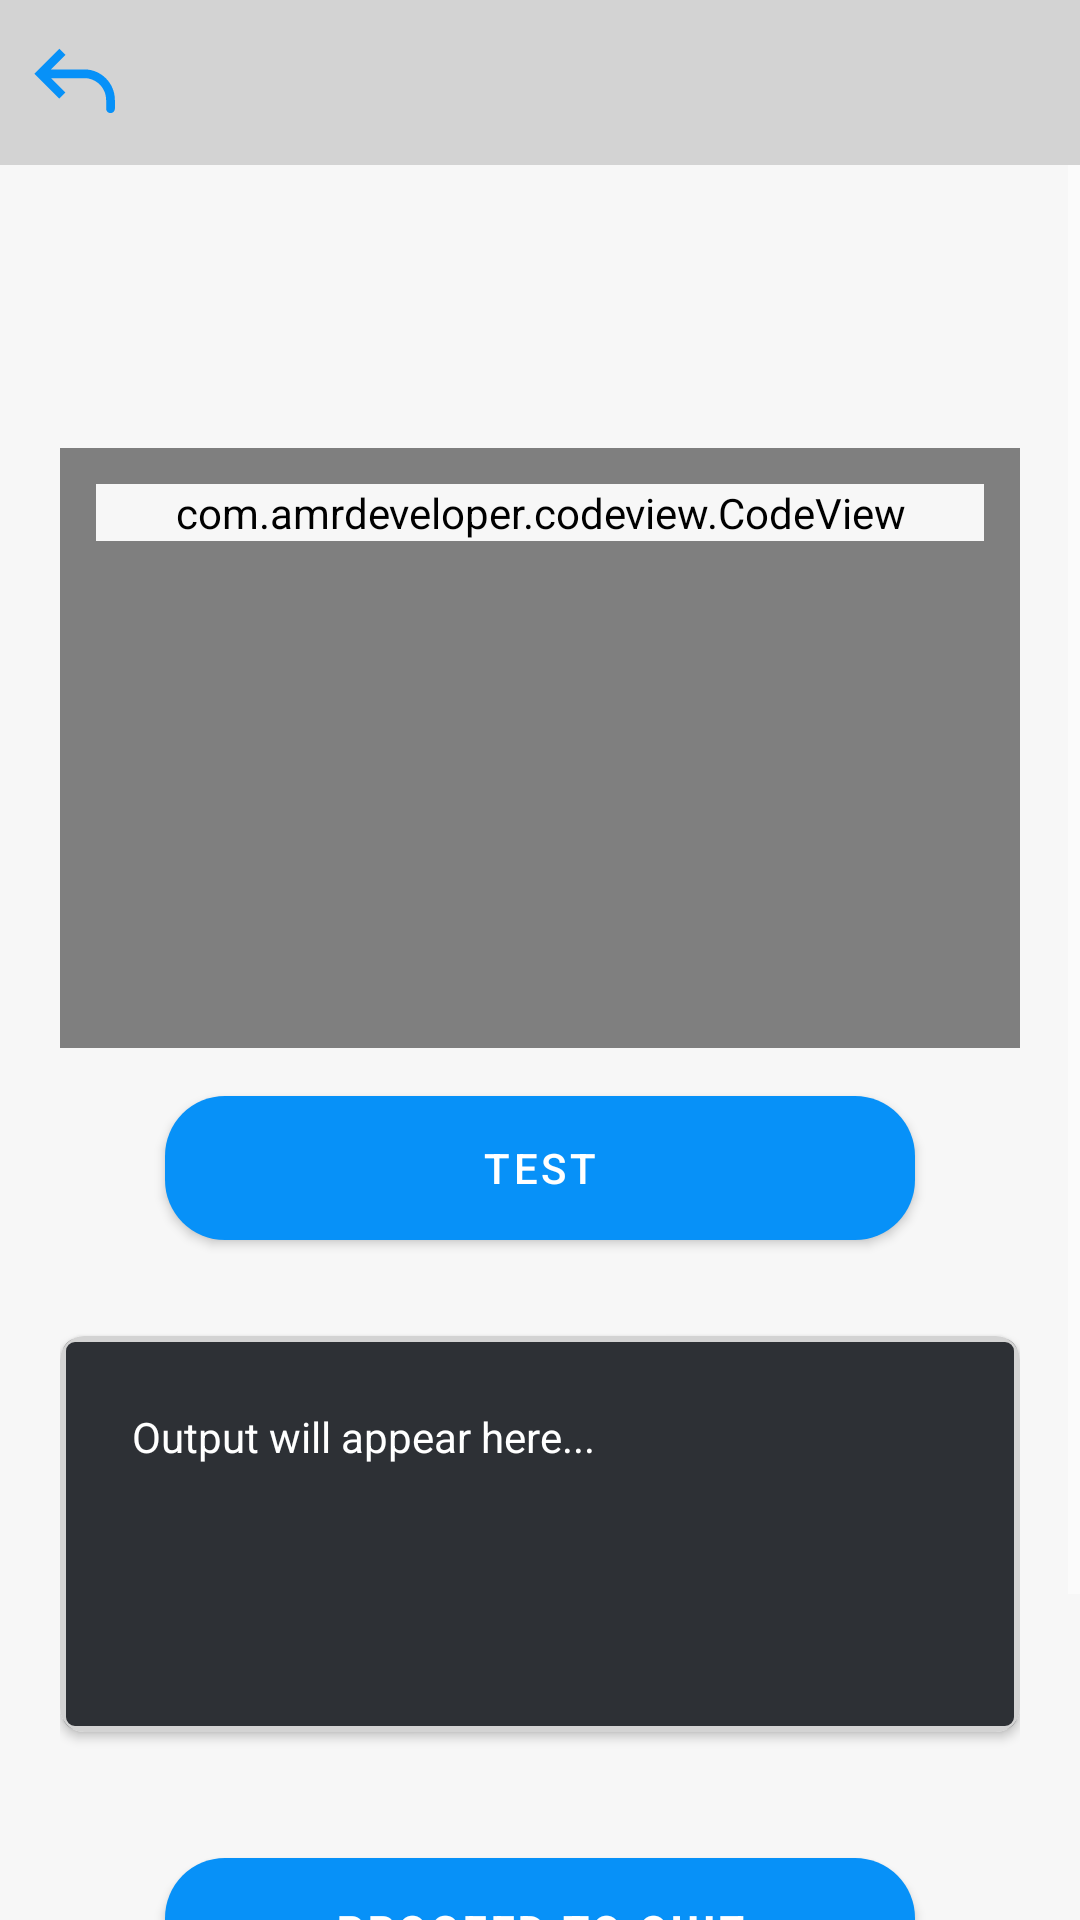

Locate icon controls on the screen. Image size 1080w x 1920h, boxes as detection(x1, y1, x2, y2).
back: detection(34, 49, 115, 113)
